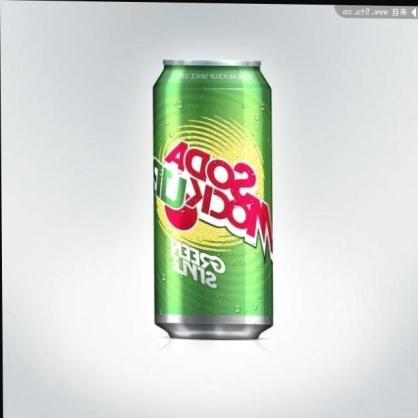can: (148, 51, 282, 340)
